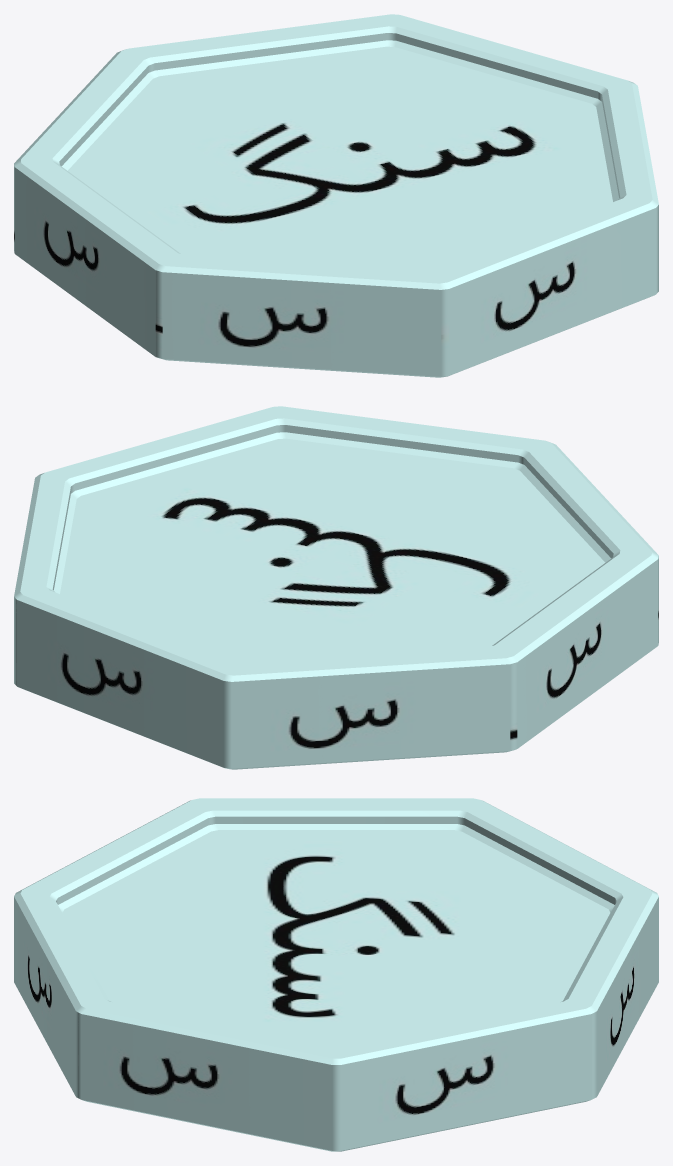
Rendered from HexaNew.fbx.
3 views of the same model, one above another, from view 1: azimuth 30°, elevation 25°; view 2: azimuth 150°, elevation 25°; view 3: azimuth 270°, elevation 25° (orthographic).
Visible parts, largest first — view 1: pCylinder1; view 2: pCylinder1; view 3: pCylinder1.
Part boxes in pixels (x1,y1,x2,y2): pCylinder1: (14,14,658,377); pCylinder1: (14,406,658,769); pCylinder1: (14,798,658,1151).
Size of the model in its own units: 25.35 by 4.14 by 26.
